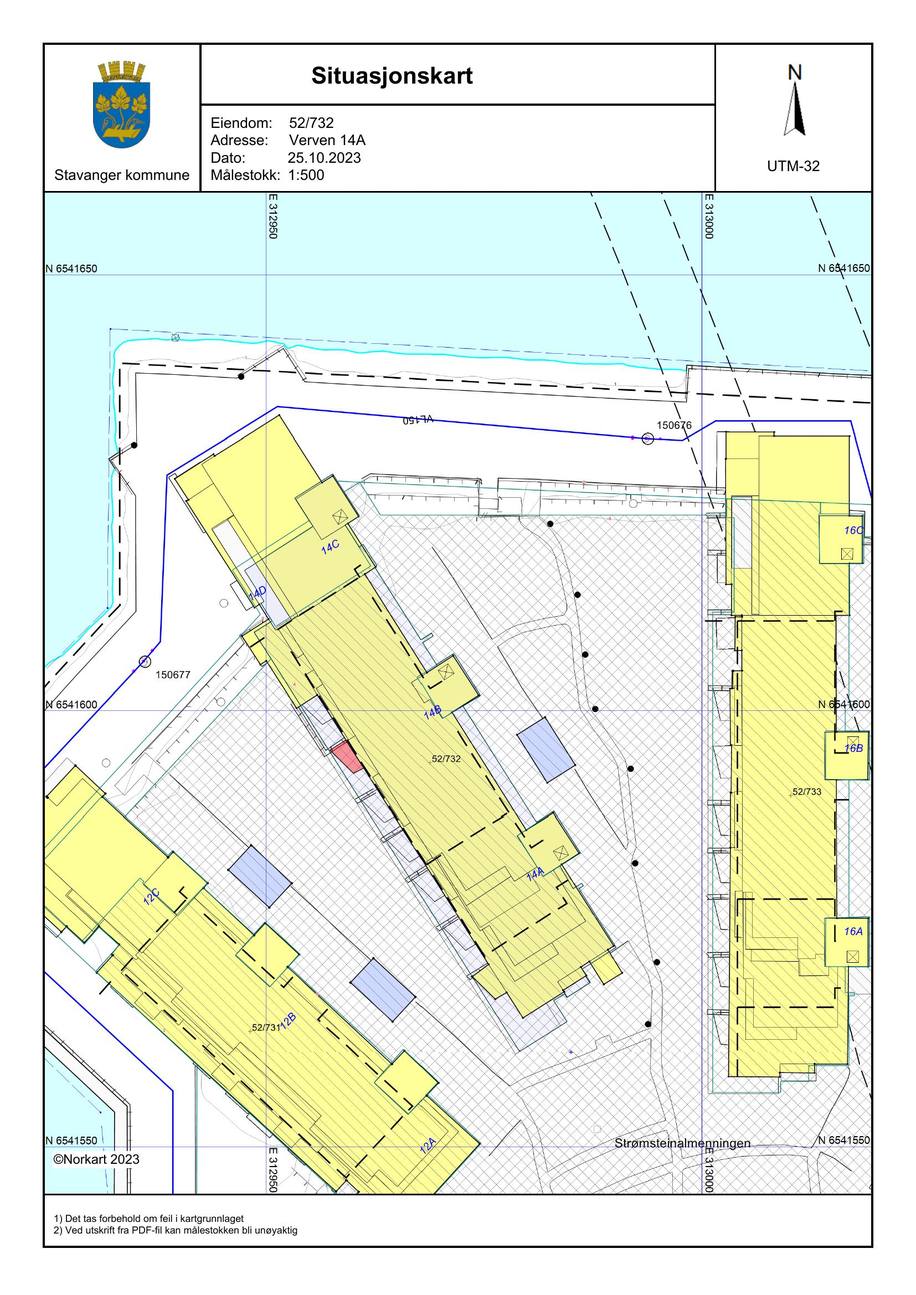situasjonskart: (45, 191, 873, 1193)
